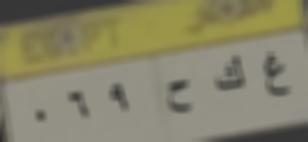0: (31, 102, 51, 130)
6: (67, 85, 91, 121)
7aa: (166, 77, 198, 116)
9: (104, 80, 138, 115)
ghayn: (260, 50, 297, 104)
kaaf: (207, 56, 248, 92)
